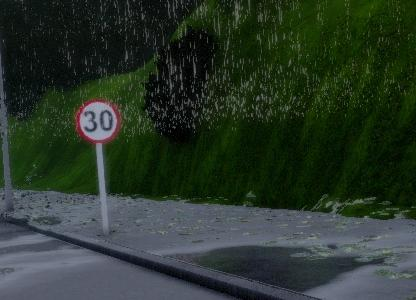Speed_30: (69, 94, 122, 146)
